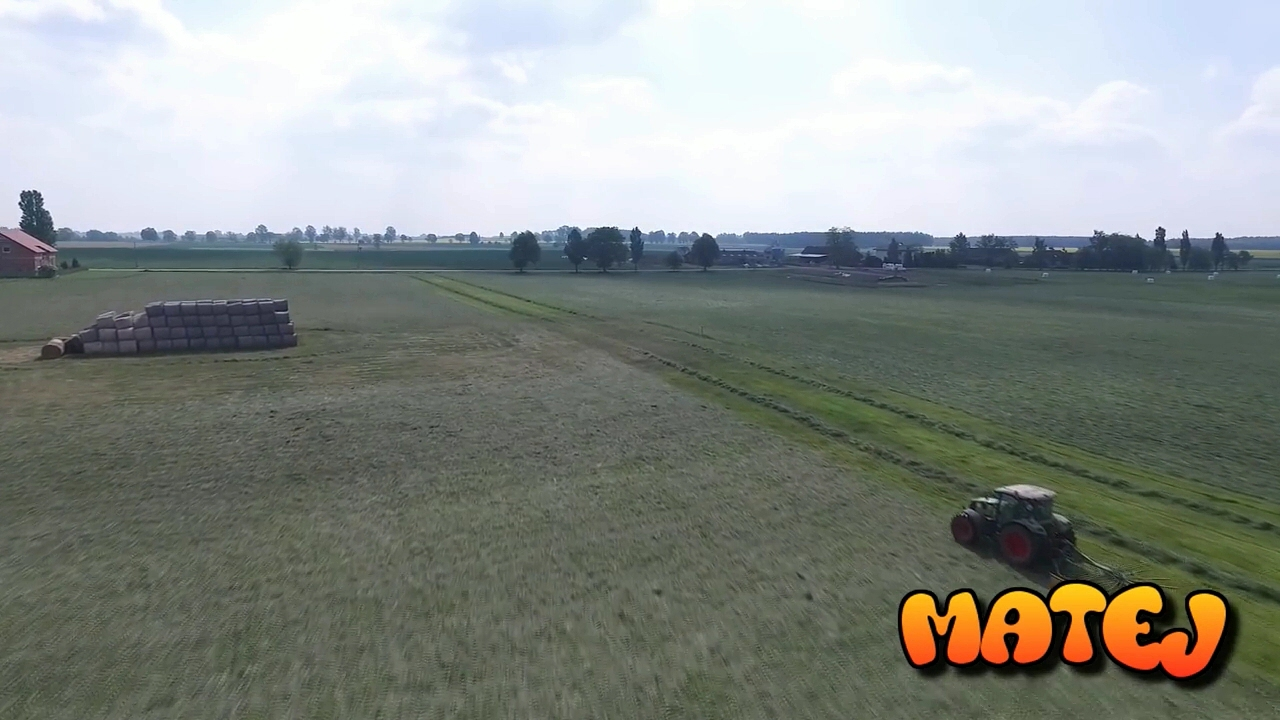traktor: (943, 479, 1086, 572)
